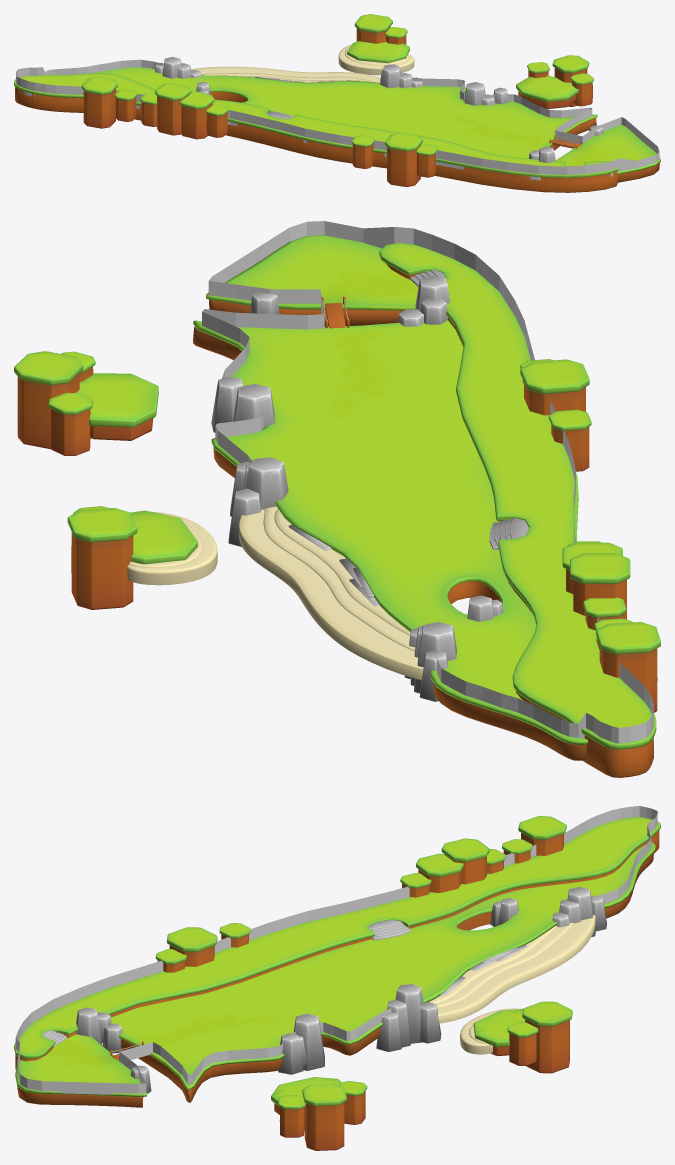
File: Pulau Sumatera 1.fbx
The picture shows the model from 3 angles, top to bottom: view 1: azimuth 30°, elevation 25°; view 2: azimuth 150°, elevation 25°; view 3: azimuth 270°, elevation 25°; orthographic projection. The views are drawn at different scales.
Parts seen in each view (by area): view 1: Cube.001, Cube.013, Cube.669, Cube.004, Cube.026, Cube.017, Cube.896, Cube.898, Cube.016, pasirpantai, Cube.673, Cube.671 (+18 smaller); view 2: Cube.001, Cube.004, Cube.013, Cube.026, Cube.668, Cube.900, Cube.017, Cube.016, pasirpantai, Cube.904, Cube.669, Cube.014 (+17 smaller); view 3: Cube.001, Cube.004, Cube.013, Cube.026, Cube.668, Cube.904, Cube.669, Cube.900, Cube.016, Cylinder.018, Cube.014, Cube.011 (+22 smaller).
Boxes of the visible parts, box(x1,y1,x2,y2) form: Cube.001: box(95, 67, 660, 174); Cube.013: box(16, 59, 659, 180); Cube.669: box(15, 87, 617, 192); Cube.004: box(14, 73, 618, 177); Cube.026: box(191, 66, 380, 82); Cube.017: box(516, 75, 578, 101); Cube.896: box(83, 89, 115, 128); Cube.898: box(387, 145, 420, 186); Cube.016: box(347, 41, 409, 63); pasirpantai: box(338, 44, 414, 75); Cube.673: box(157, 95, 188, 135); Cube.671: box(181, 103, 212, 139); Cube.001: box(193, 235, 587, 744); Cube.004: box(379, 243, 656, 749); Cube.013: box(202, 221, 653, 743); Cube.026: box(239, 506, 423, 680); Cube.668: box(193, 299, 586, 760); Cube.900: box(71, 532, 133, 609); Cube.017: box(76, 373, 158, 427); Cube.016: box(131, 510, 197, 564); pasirpantai: box(127, 511, 217, 585); Cube.904: box(17, 373, 79, 449); Cube.669: box(385, 263, 653, 777); Cube.014: box(67, 508, 137, 542); Cube.001: box(15, 842, 655, 1096); Cube.004: box(14, 817, 660, 1058); Cube.013: box(15, 806, 657, 1094); Cube.026: box(429, 915, 595, 1023); Cube.668: box(17, 853, 653, 1107); Cube.904: box(304, 1102, 344, 1150); Cube.669: box(15, 831, 659, 1069); Cube.900: box(525, 1019, 569, 1073); Cube.016: box(473, 1009, 524, 1046); Cylinder.018: box(293, 1013, 324, 1070); Cube.014: box(522, 1001, 572, 1026); Cube.011: box(167, 927, 217, 951).
Bounding box in the file's own units: 127 × 14.84 × 120.
